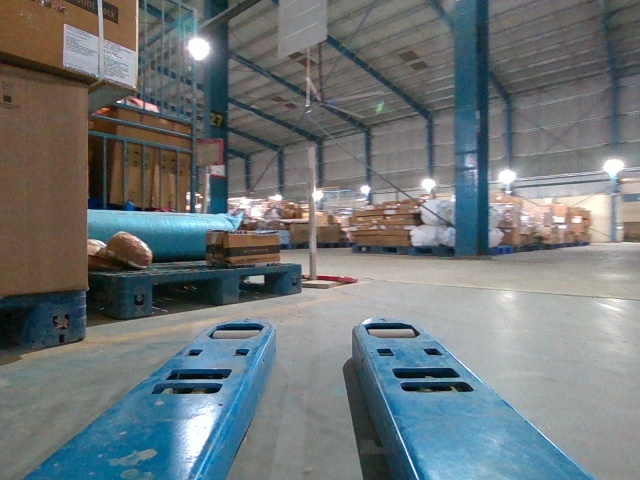block: (32, 293, 85, 348), (121, 276, 153, 318), (221, 264, 241, 302), (284, 262, 303, 293)
front: (124, 263, 301, 318)
hole pallet: (150, 275, 221, 310), (239, 268, 286, 298)
